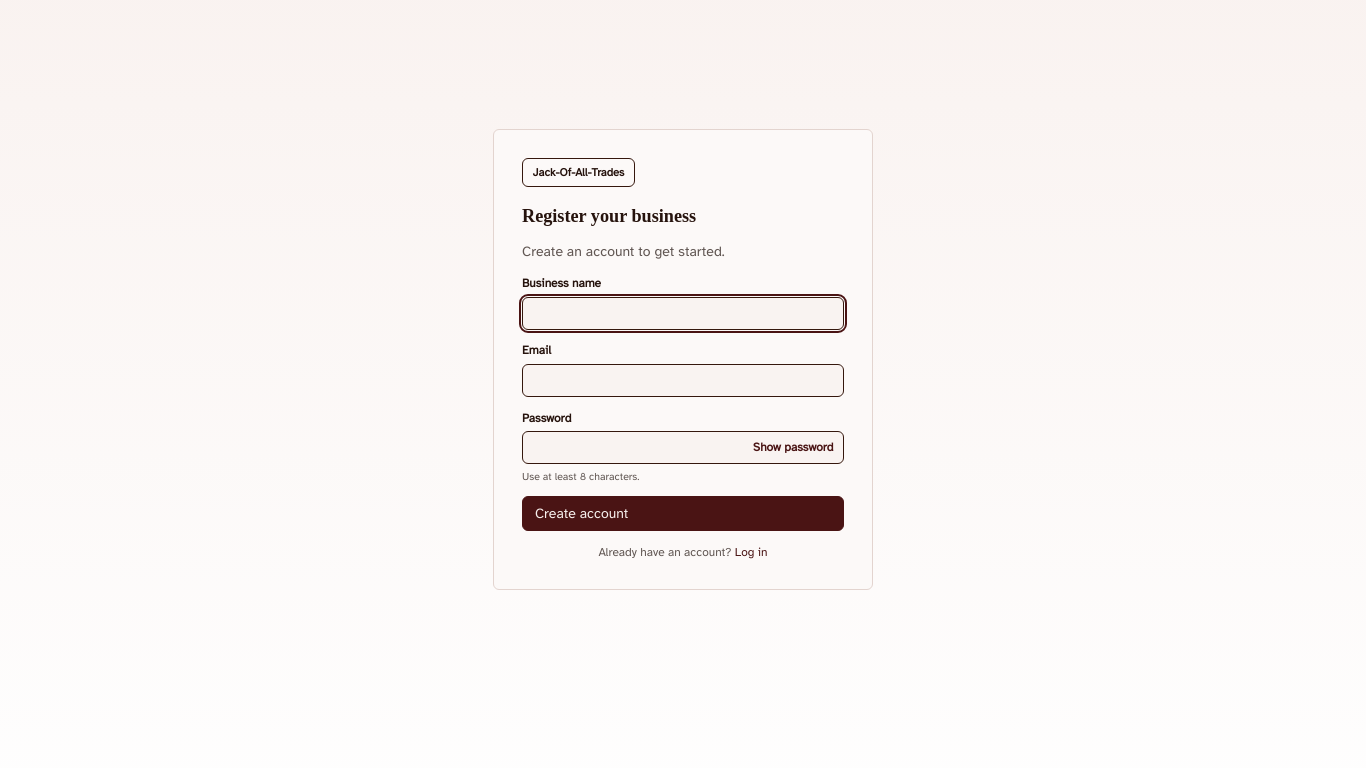
authentication pages › checks the registration fields before sending
Step 1. Type "not-an-email" into the field labelled "Email" → (683, 380), box [522,364,844,397]
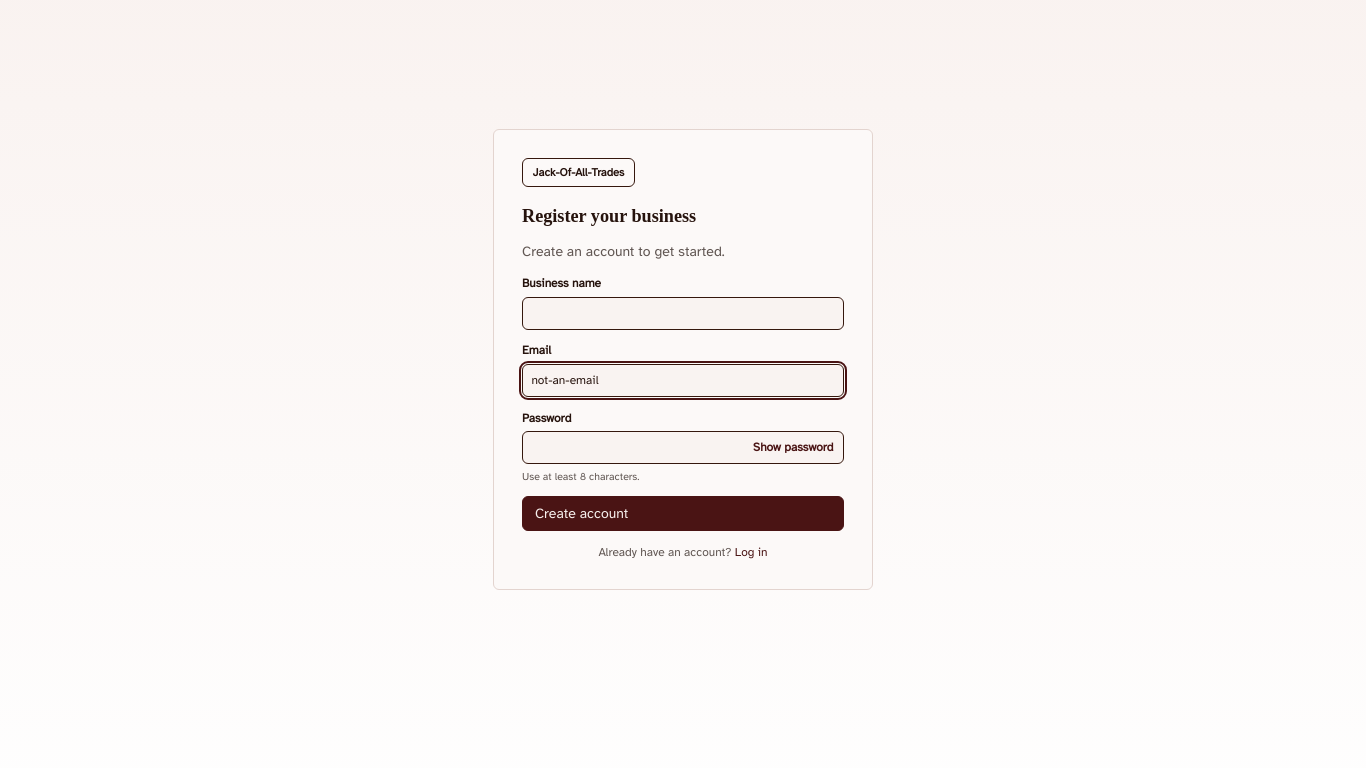
Step 2. Type "short" into the password field labelled "Password" → (683, 448), box [522,431,844,464]
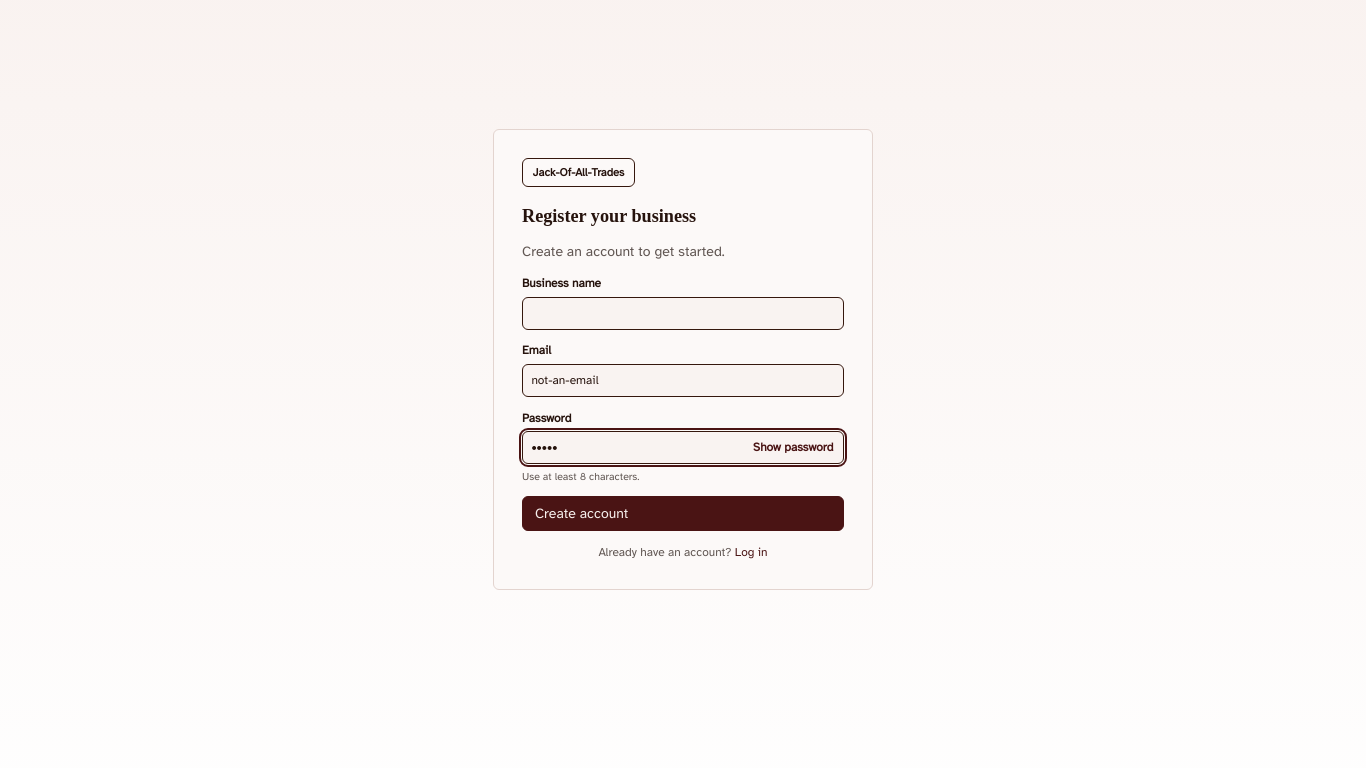
Step 3. Click the button "Create account" → (582, 513), box [522,496,844,531]
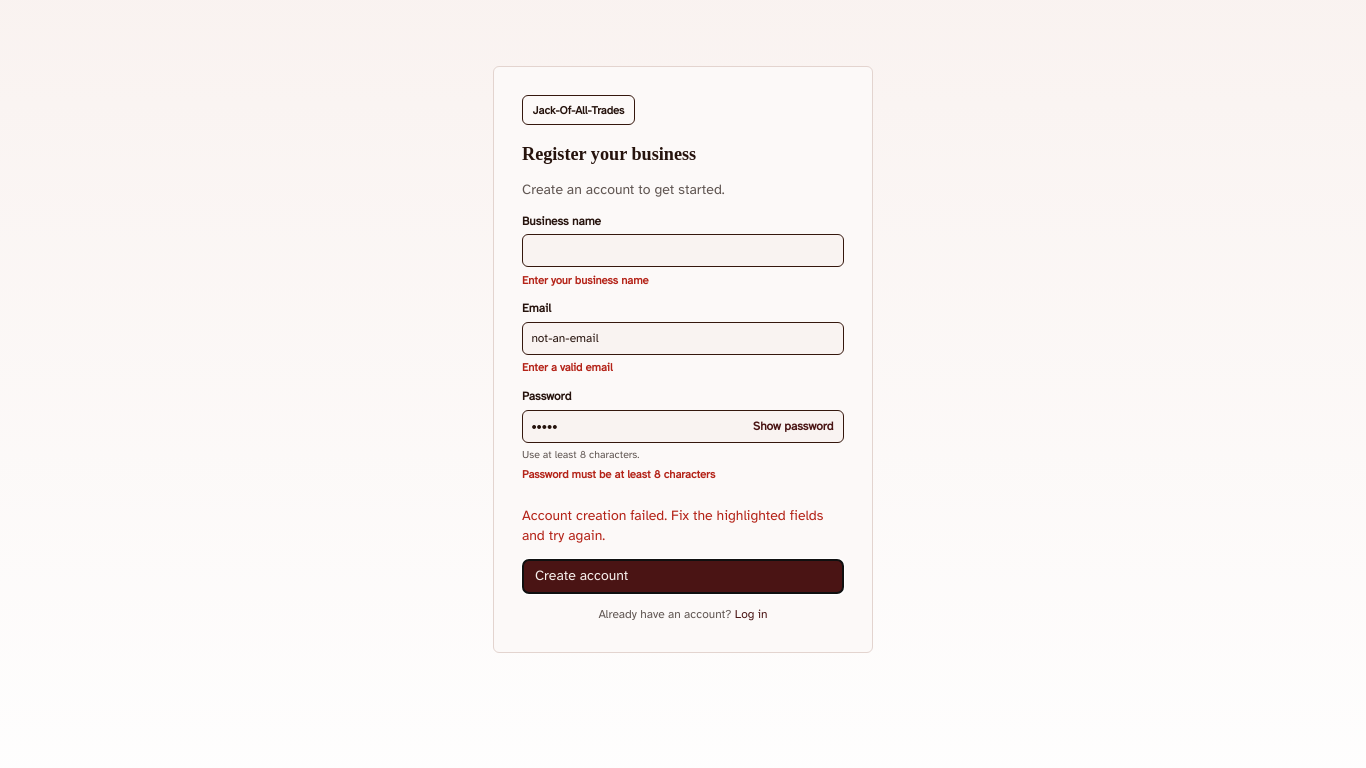
Check: the text "Password must be at least 8 characters" is shown, box [522,467,715,481]
Check: the text "Account creation failed. Fix the highlighted fields and try again." is shown, box [522,506,844,546]
